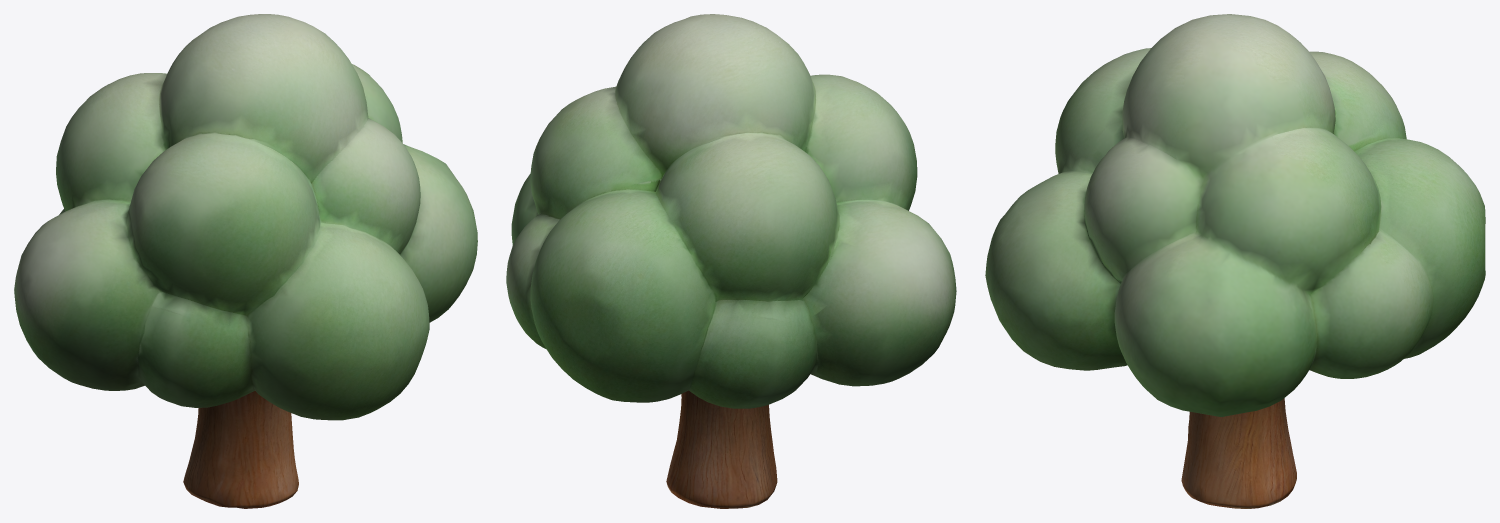
The model's file is P_TownTree_h600.fbx.
3 views of the same model, side by side, from view 1: azimuth 30°, elevation 25°; view 2: azimuth 150°, elevation 25°; view 3: azimuth 270°, elevation 25° (orthographic). The views are drawn at different scales.
Visible parts, largest first — view 1: texture_mapping; view 2: texture_mapping; view 3: texture_mapping.
Part boxes in pixels (x1,y1,x2,y2): texture_mapping: (14, 14, 477, 508); texture_mapping: (506, 14, 956, 508); texture_mapping: (985, 14, 1485, 508).
Size of the model in its own units: 0.9732 by 0.9634 by 0.9993.
Materials: 1 (1 with a texture image).
